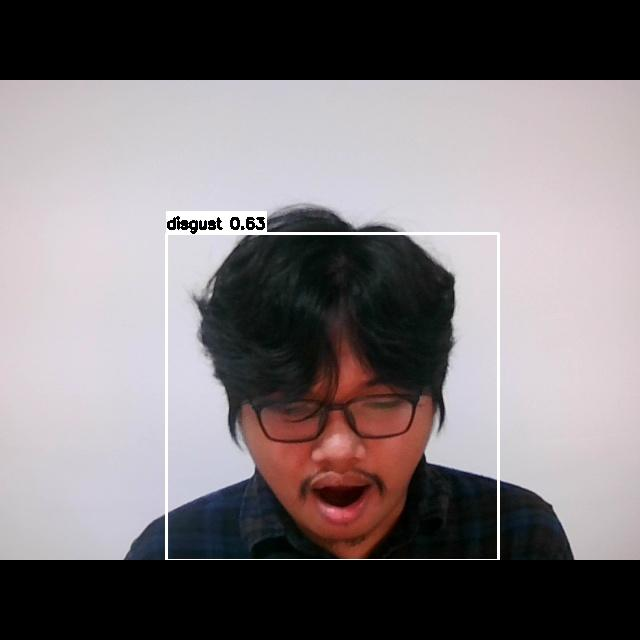Surprised: (226, 362, 439, 539)
